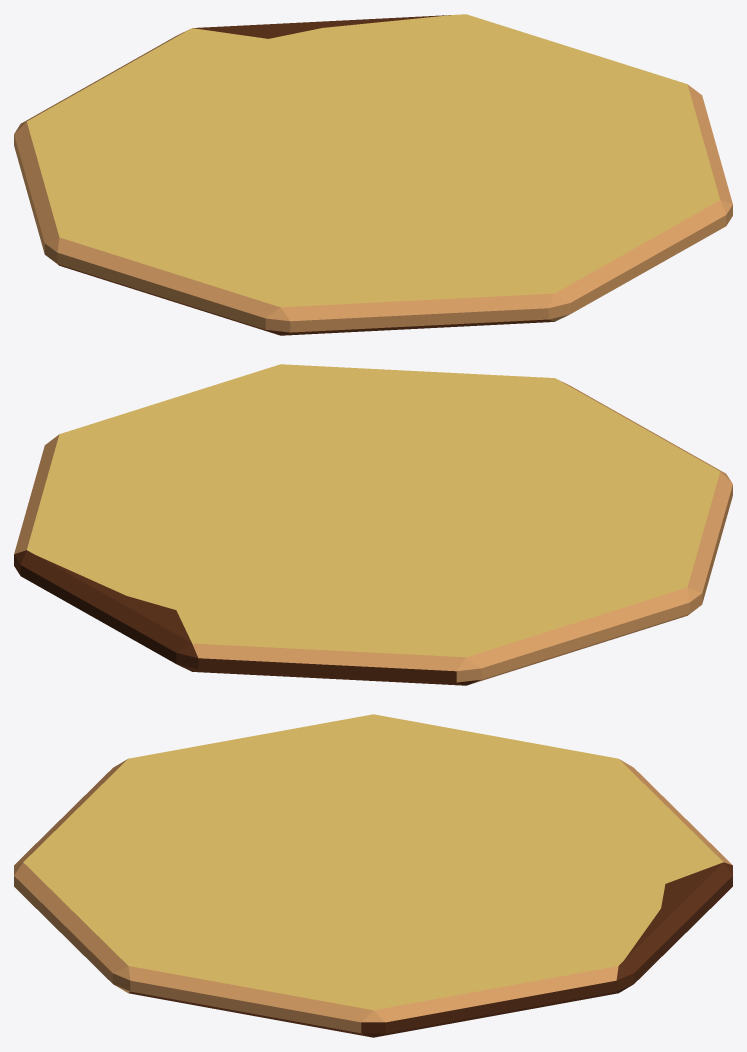
The model's file is OmeletteSlightlyBurnt.fbx.
3 renders of one model, top to bottom at view 1: azimuth 30°, elevation 25°; view 2: azimuth 150°, elevation 25°; view 3: azimuth 270°, elevation 25°, orthographic. The views are drawn at different scales.
Visible parts, largest first — view 1: OmeletteSlightlyBurnt; view 2: OmeletteSlightlyBurnt; view 3: OmeletteSlightlyBurnt.
Part boxes in pixels (x1,y1,x2,y2): OmeletteSlightlyBurnt: (14, 14, 732, 335); OmeletteSlightlyBurnt: (14, 364, 732, 685); OmeletteSlightlyBurnt: (14, 714, 732, 1037).
Bounding box in the file's own units: 197 × 8.29 × 197.
